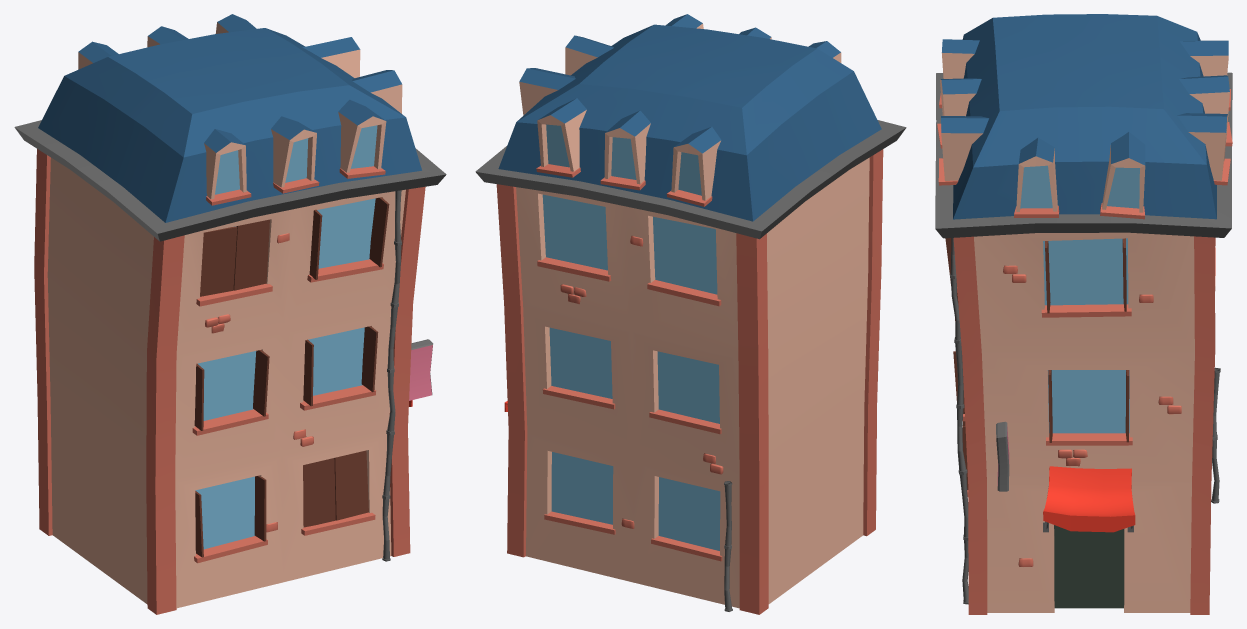
The model's file is sm_Bat-TEST_01.fbx.
The picture shows the model from 3 angles, left to right: view 1: azimuth 30°, elevation 25°; view 2: azimuth 150°, elevation 25°; view 3: azimuth 270°, elevation 25°; orthographic projection. The views are drawn at different scales.
Visible parts, largest first — view 1: Cube; view 2: Cube; view 3: Cube.
Boxes of the visible parts, <box> form: Cube: <box>14,14,446,614</box>; Cube: <box>475,14,906,614</box>; Cube: <box>935,14,1232,614</box>.
Size of the model in its own units: 1248 by 1876 by 1019.
